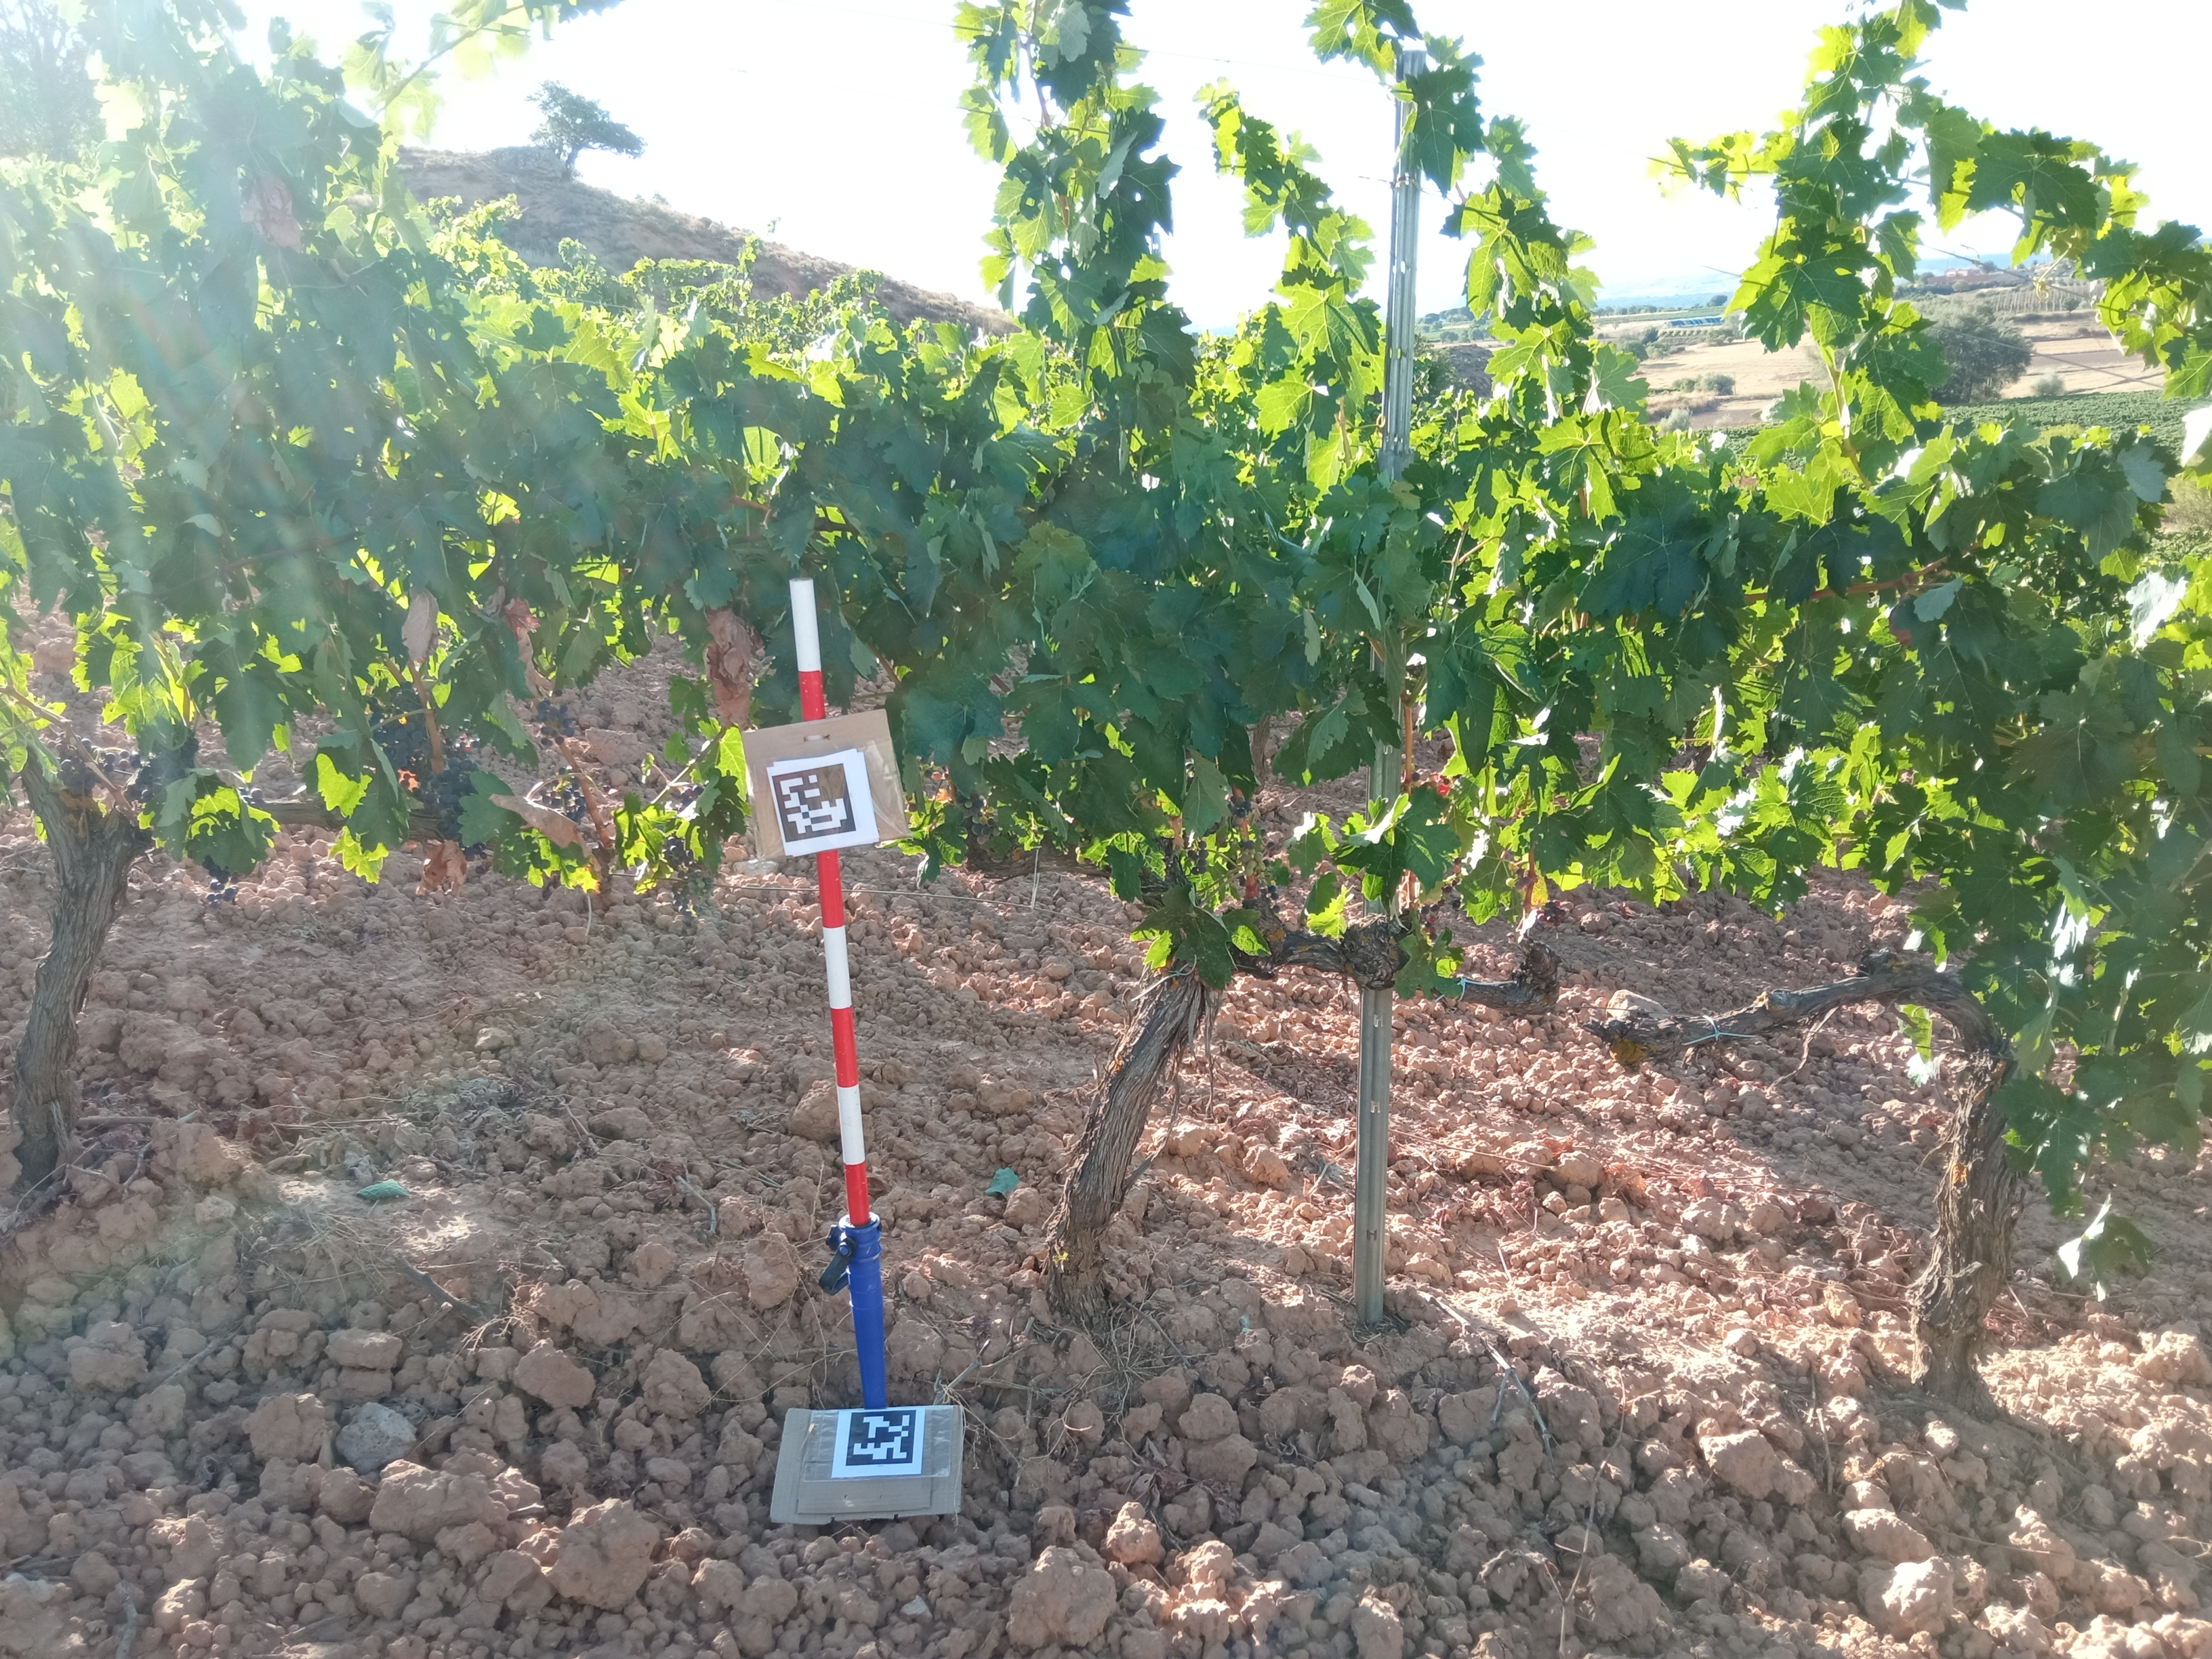grapes: (40, 728, 141, 793), (369, 683, 428, 769), (425, 751, 479, 840), (127, 734, 199, 798), (658, 836, 716, 911), (1235, 831, 1285, 910), (526, 692, 582, 753), (536, 763, 582, 833), (958, 789, 1003, 849), (1423, 878, 1468, 934), (1186, 823, 1223, 878), (200, 859, 242, 904), (463, 842, 486, 875), (1231, 793, 1254, 821)
